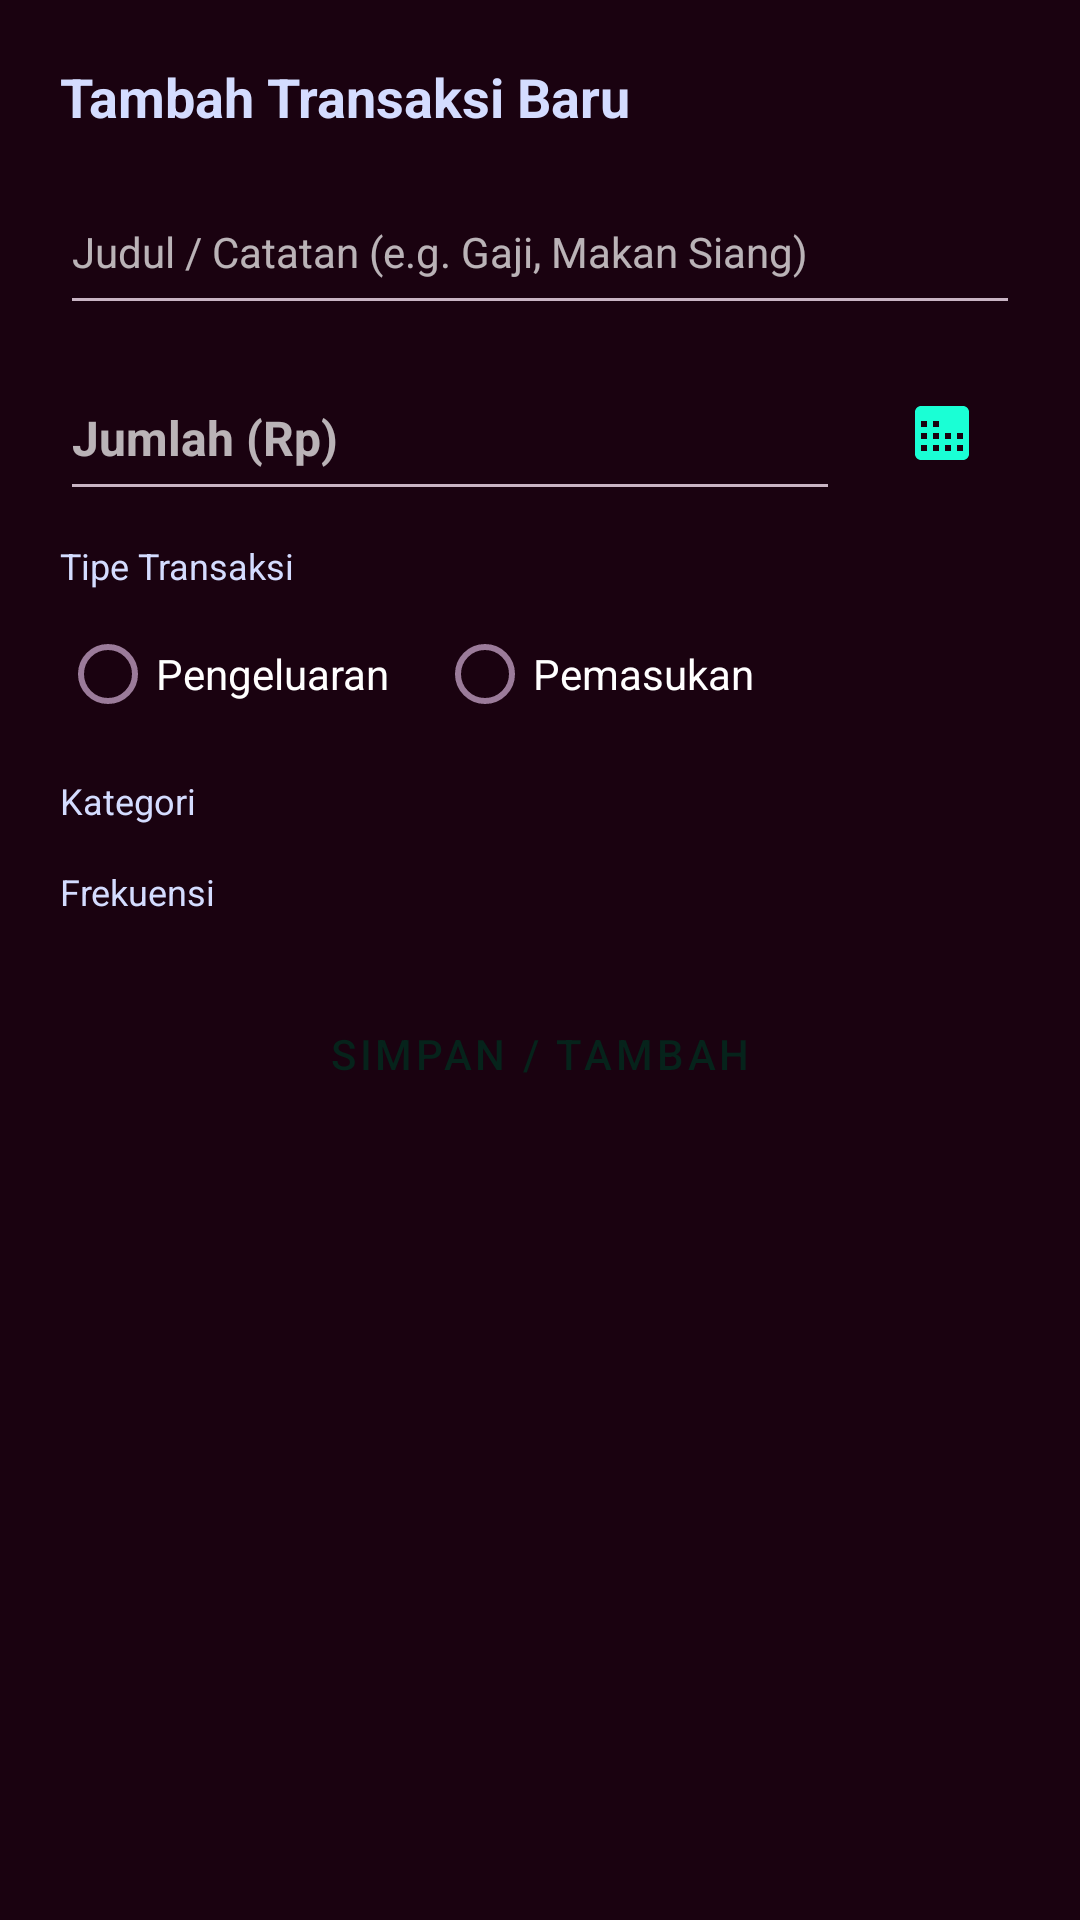

Point at icon controls on the screen. Image size 1080w x 1920h, points as (x=x, y=y).
Kalkulator Anggaran: (x=942, y=433)
